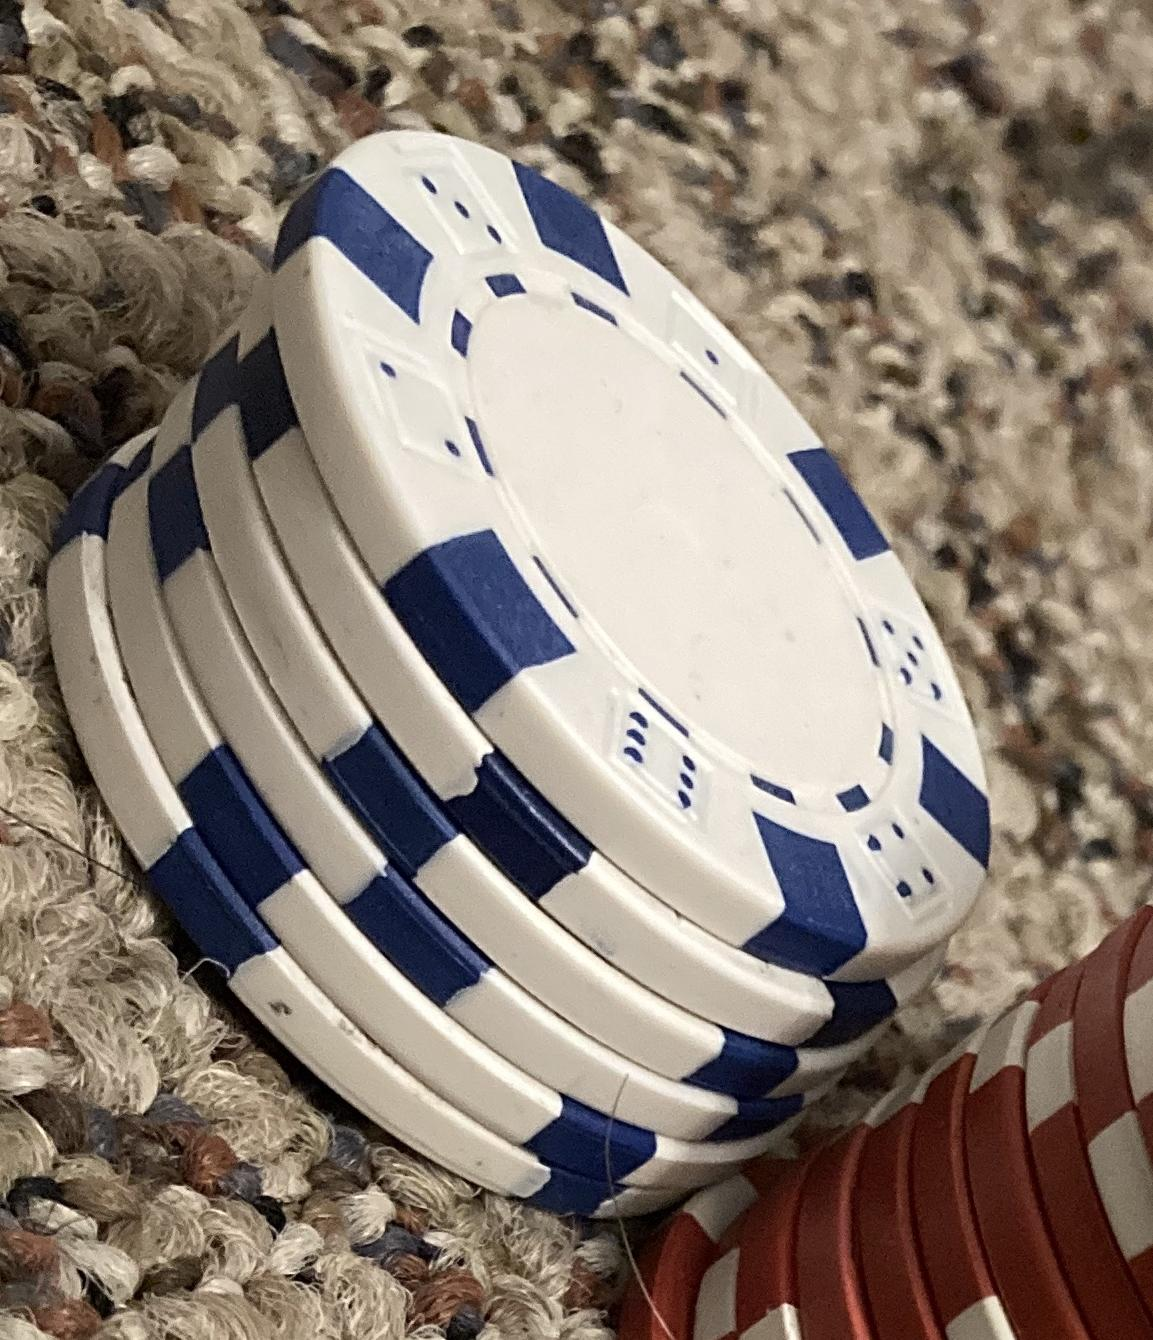Chip: (1, 1, 1153, 1340)
